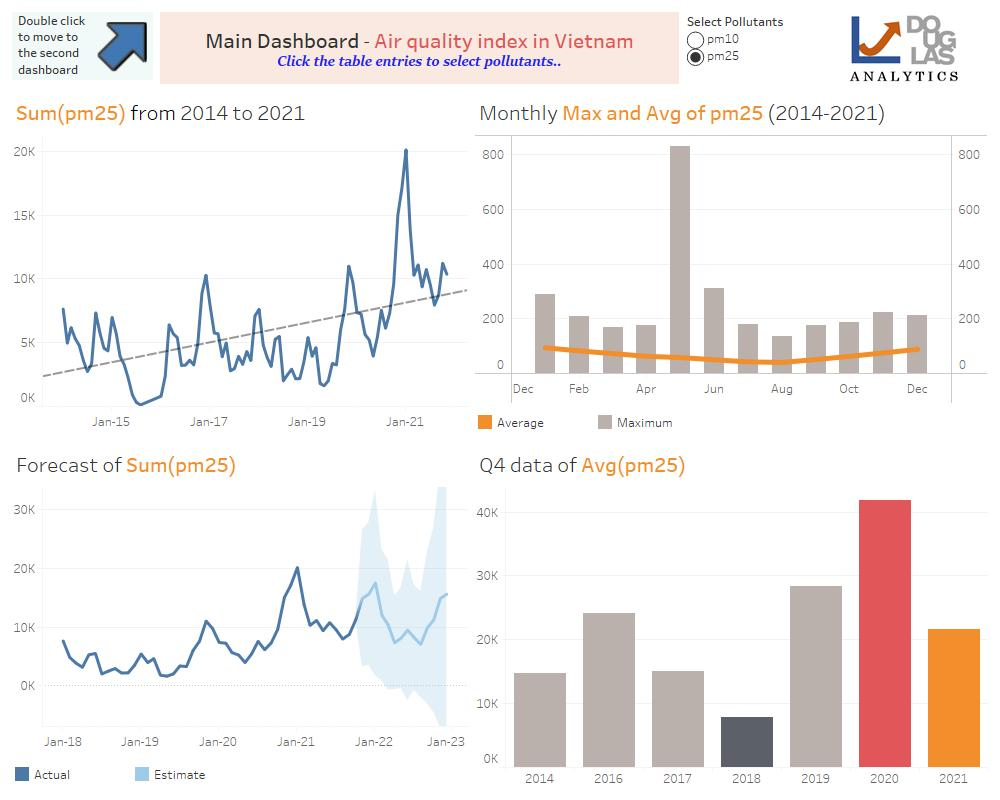

Layout of this report page (visuals, bound fields, positions):
{"tool":"tableau","page":{"name":"Main Dashboard","canvas":[1000,800],"ordinal":1},"visuals":[{"type":"worksheet","title":"nav1","mark":"Shape","rows":["Calculation_661184762621894659"],"box":[8,8,148,80]},{"type":"title","box":[156,8,527,80]},{"type":"parameter","param":"[Parameters].[Parameter 1]","box":[683,8,136,80]},{"type":"image","param":"Image/douglas_analytics.PNG","box":[819,8,173,80]},{"type":"worksheet","title":"trend line","mark":"Automatic","rows":["Calculation_661184762457133056"],"cols":["date"],"box":[8,88,463,352]},{"type":"worksheet","title":"Monthly data","mark":"Bar","rows":["Calculation_661184762457133056","Calculation_661184762457133056"],"cols":["date"],"box":[471,88,521,320]},{"type":"legend","title":"Monthly data","param":"[federated.1edaggq0qem6x41capvxn16w76xp].[:Measure Names]","box":[471,408,521,32]},{"type":"worksheet","title":"Forecast","mark":"Line","rows":["Calculation_661184762457133056"],"cols":["date"],"box":[8,440,463,320]},{"type":"worksheet","title":"Q4 data","mark":"Bar","rows":["Calculation_661184762457133056"],"cols":["date"],"box":[471,440,521,352]},{"type":"legend","title":"Forecast","param":"[federated.1edaggq0qem6x41capvxn16w76xp].[attr:Forecast Indicator:nk]","box":[8,760,463,32]}]}

Visuals, with their boxes in screenshot pixels (x1, y1, x2, y2), scaled from the page's 1000x800 canvas onto the 1000x800 screenshot:
"nav1" worksheet (Shape marks): 8,8,156,88
title: 156,8,683,88
parameter: 683,8,819,88
image: 819,8,992,88
"trend line" worksheet: 8,88,471,440
"Monthly data" worksheet (Bar marks): 471,88,992,408
"Monthly data" legend: 471,408,992,440
"Forecast" worksheet (Line marks): 8,440,471,760
"Q4 data" worksheet (Bar marks): 471,440,992,792
"Forecast" legend: 8,760,471,792
